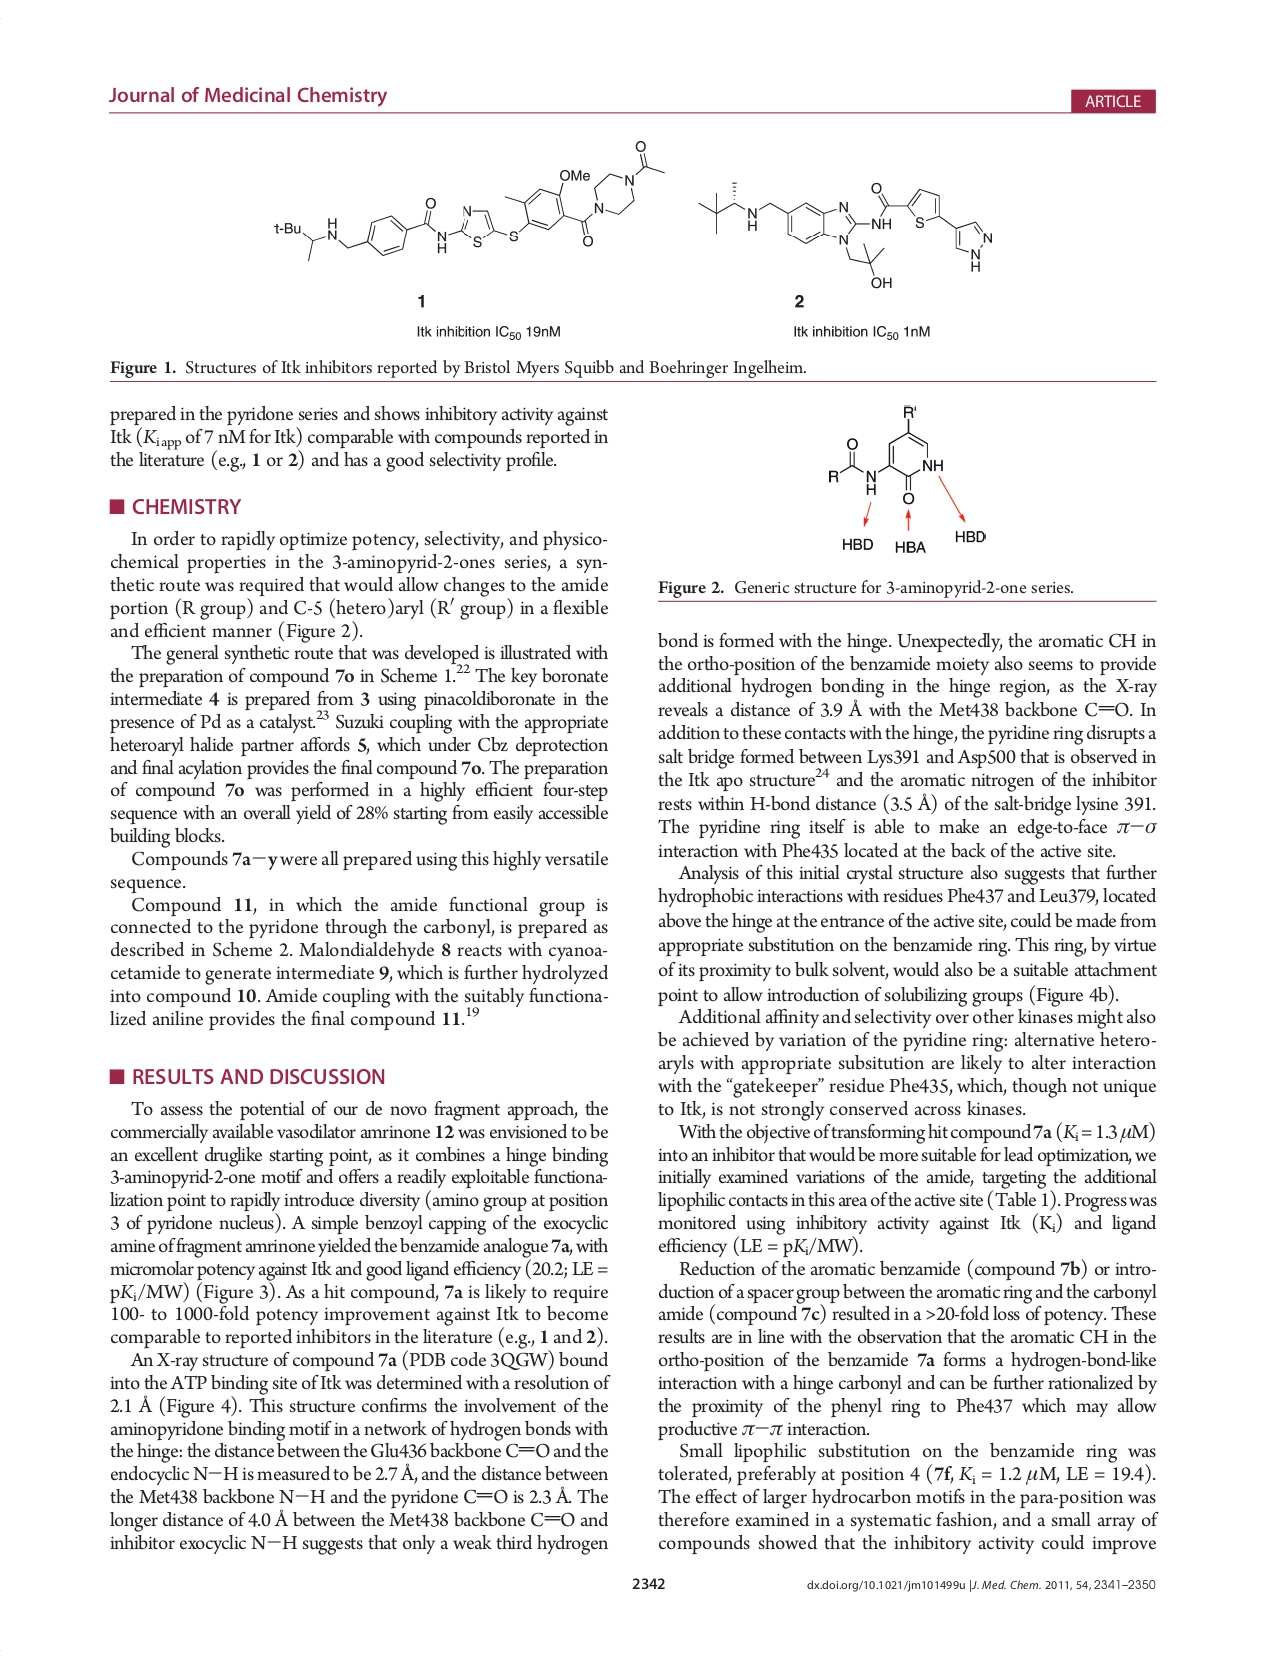exist_molecular: (273, 140, 665, 269), (696, 176, 997, 291), (824, 402, 949, 509)
